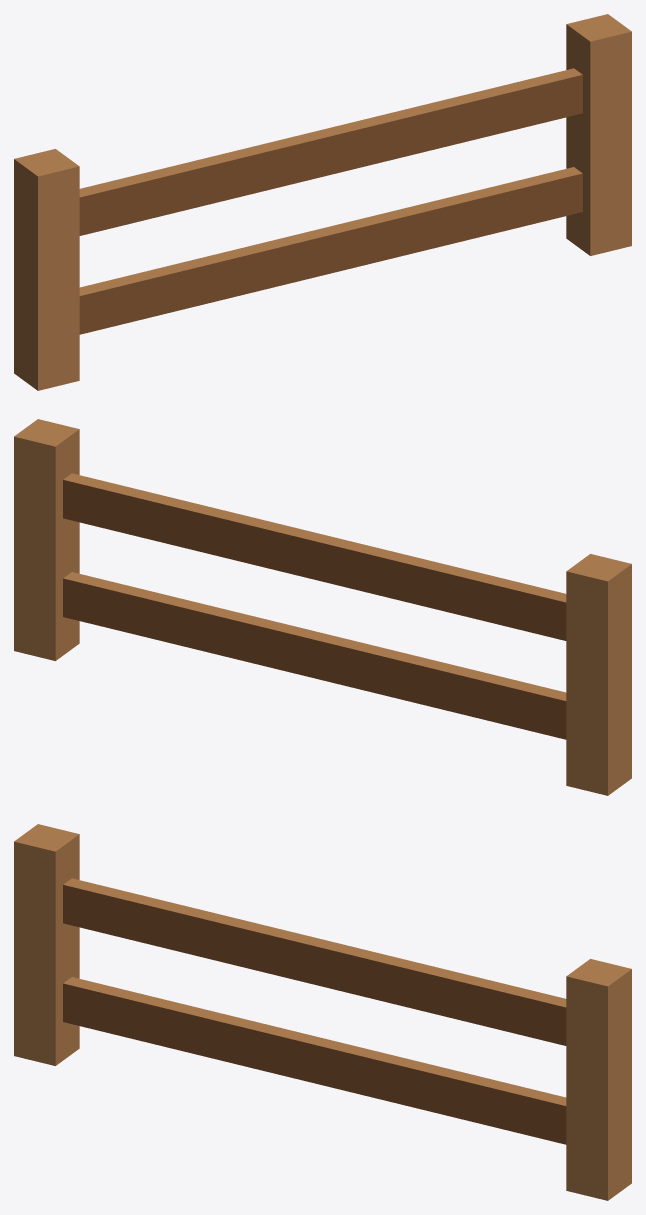
Rendered from fence.glb.
The picture shows the model from 3 angles, top to bottom: view 1: azimuth 30°, elevation 25°; view 2: azimuth 150°, elevation 25°; view 3: azimuth 330°, elevation 25°; orthographic projection.
Parts seen in each view (by area): view 1: fence_simple; view 2: fence_simple; view 3: fence_simple.
Boxes of the visible parts, <box> form: fence_simple: <box>14,14,631,390</box>; fence_simple: <box>14,419,631,795</box>; fence_simple: <box>14,824,631,1200</box>.
Size of the model in its own units: 1 by 0.345 by 0.07.
